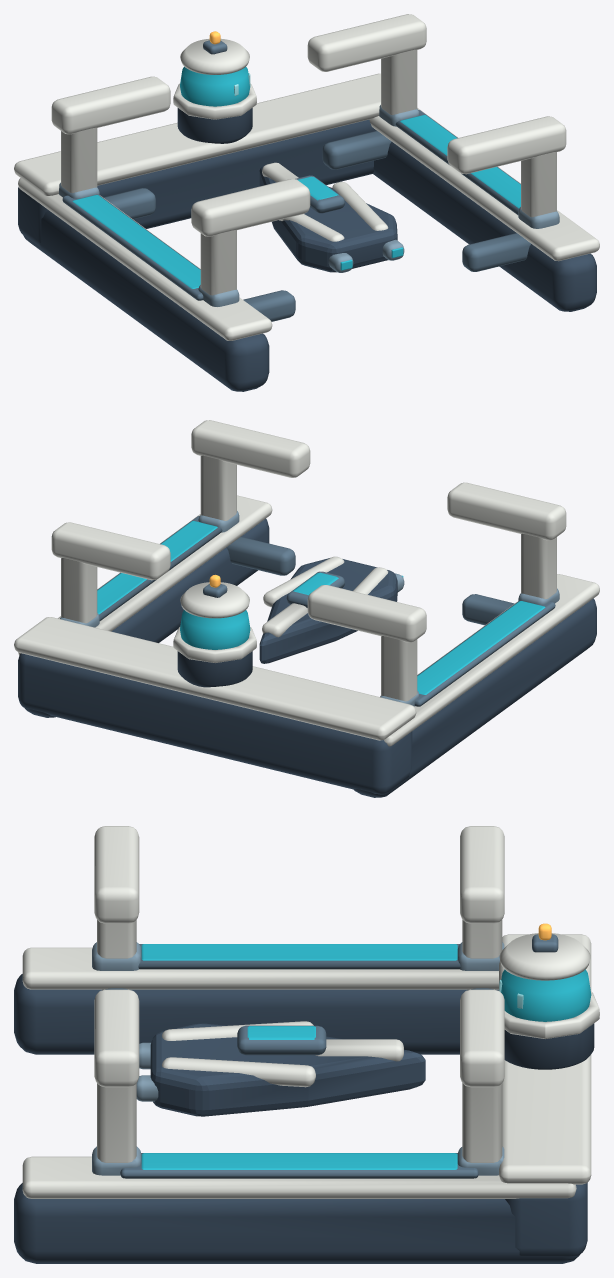
Rendered from orbital_shipyard_lv2.glb.
The picture shows the model from 3 angles, top to bottom: view 1: azimuth 30°, elevation 25°; view 2: azimuth 150°, elevation 25°; view 3: azimuth 270°, elevation 25°; orthographic projection. The views are drawn at different scales.
Parts seen in each view (by area): view 1: Structure; view 2: Structure; view 3: Structure.
Boxes of the visible parts, box(x1,y1,x2,y2) form: Structure: box(14, 14, 599, 391); Structure: box(14, 420, 599, 797); Structure: box(14, 826, 599, 1263).
Bounding box in the file's own units: 7.84 × 3.49 × 8.11.
